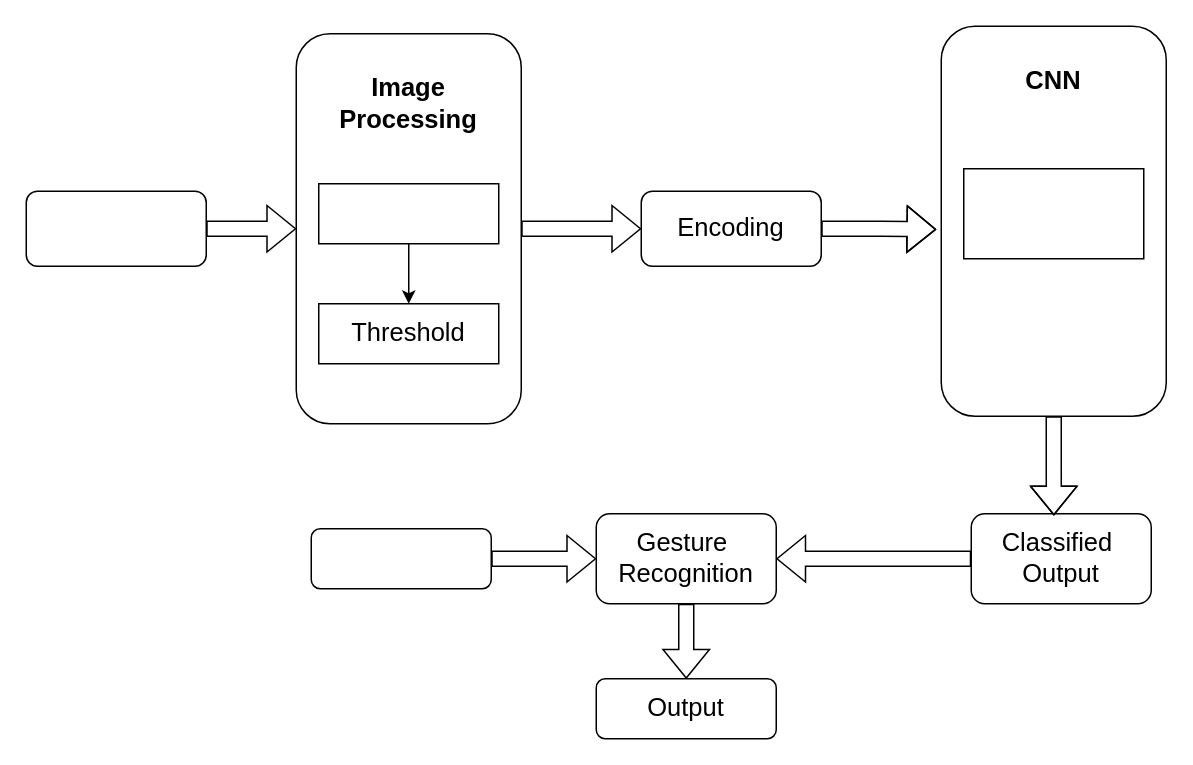
This 1193x765 diagram has some shape labels left out. The shapes that lost their labels are listed below. From the top down, each one's centre as x and y in pixels, then its label:
At [115,228]: "Input Image".
At [408,213]: "Guassian Blur".
At [1053,213]: "Future Map Generation".
At [400,558]: "Testing".
